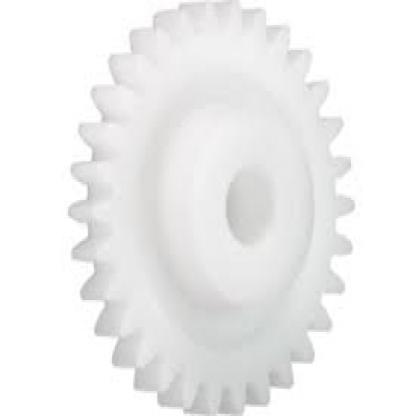FOD: (39, 9, 372, 414)
